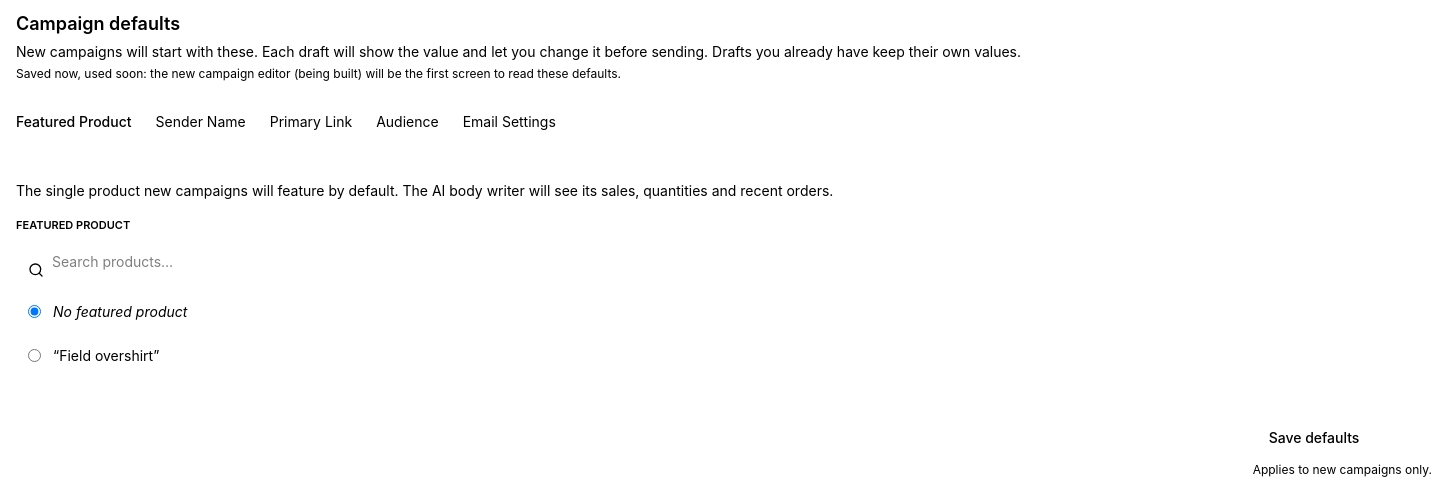
Test: DefaultsForm › saves every tab at once, even the hidden ones
Check: the text "Applies to new campaigns only." is shown, box [1253,462,1432,478]
Click the button "Save defaults": {"x": 1314, "y": 438} [1253,418,1375,458]
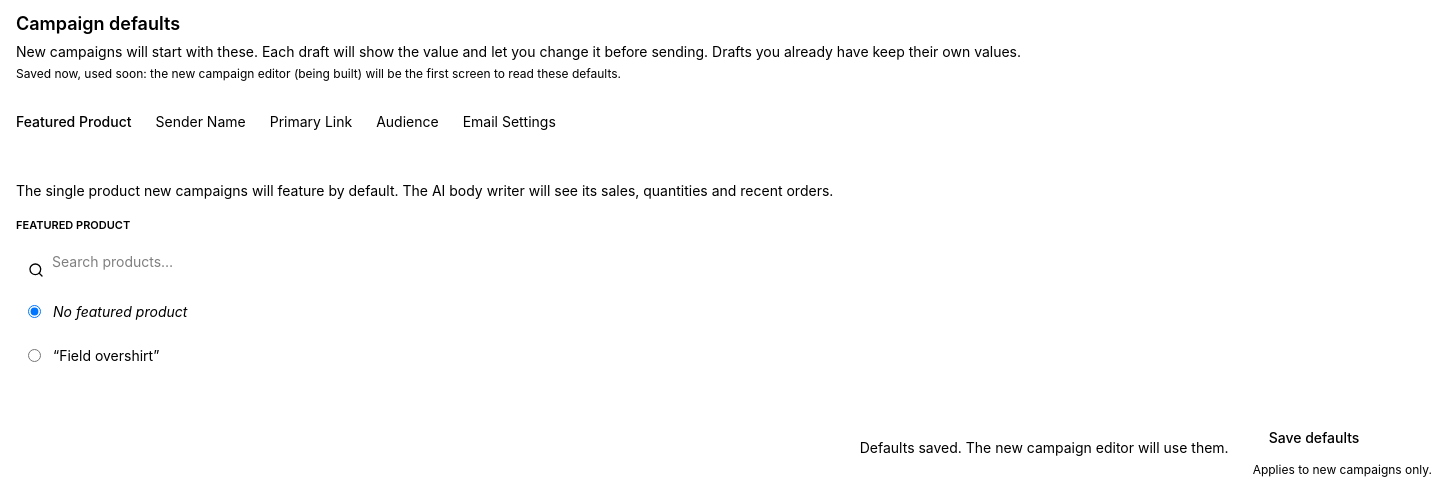
Check: the text "Defaults saved. The new campaign editor will use them." is shown, box [860,438,1229,456]
